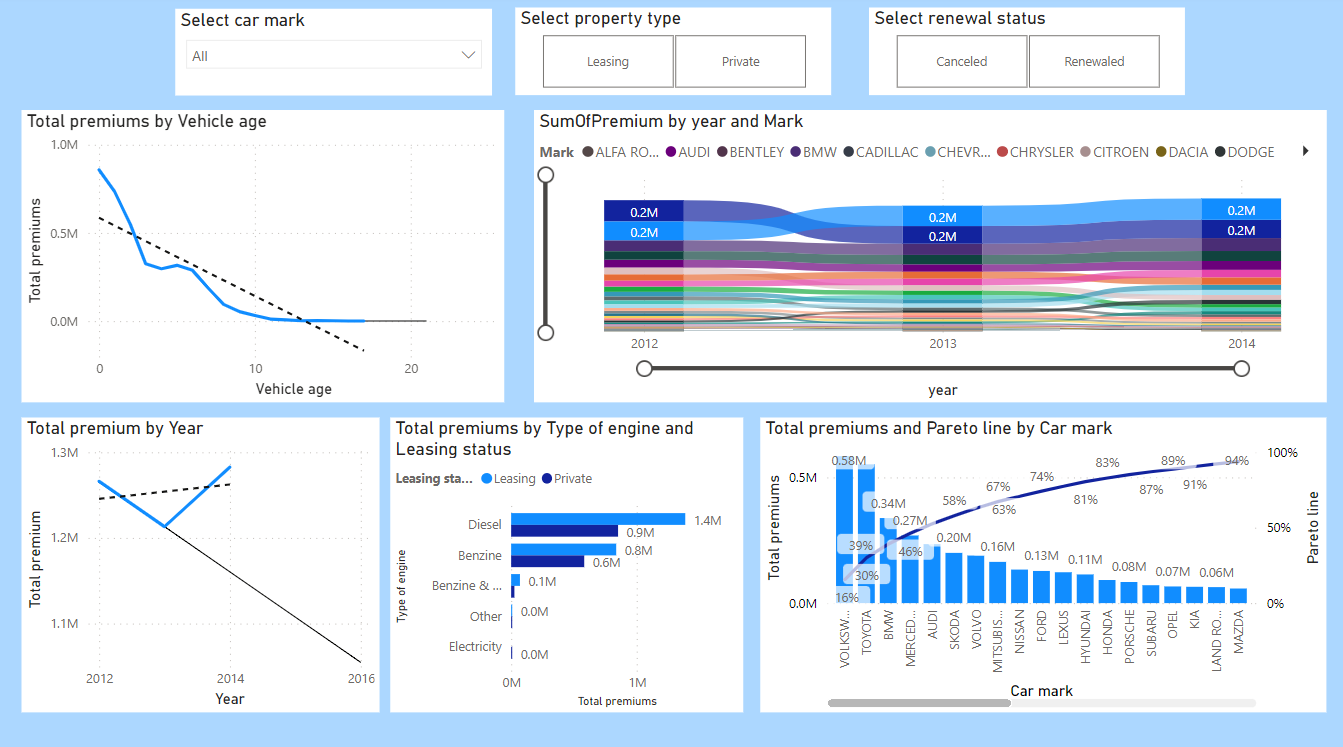

Layout of this report page (visuals, bound fields, positions):
{"tool":"powerbi","page":{"name":"Trends in sales","canvas":[1280,720],"ordinal":3},"visuals":[{"type":"ribbonChart","fields":{"Category":["policies.year"],"Y":["calculations.SumOfPremium"],"Series":["policies.Mark"]},"box":[507.5,108.8,752.5,277.5],"z":0},{"type":"lineChart","fields":{"Category":["policies.VehicleAge"],"Y":["calculations.SumOfPremium"]},"box":[21.2,108.8,458.8,277.5],"z":1000},{"type":"lineChart","fields":{"Y":["calculations.SumOfPremium"],"Category":["policies.year"]},"box":[21.2,401.2,340,280],"z":2000},{"type":"clusteredBarChart","fields":{"Category":["policies.EngineType"],"Y":["calculations.SumOfPremium"],"Series":["policies.LeasingStatus"]},"box":[371.2,401.2,335,280],"z":3000},{"type":"lineStackedColumnComboChart","fields":{"Category":["policies.Mark"],"Y":["calculations.SumOfPremium"],"Y2":["calculations.Cumulative Premium (%)"]},"box":[722.5,401.2,537.5,280],"z":4000},{"type":"slicer","title":"Select car mark","fields":{"Values":["policies.Mark"]},"box":[166.8,12.5,301,82.8],"z":5000},{"type":"slicer","title":"Select property type","fields":{"Values":["policies.LeasingStatus"]},"box":[490,12.2,300,83.3],"z":6000},{"type":"slicer","title":"Select renewal status","fields":{"Values":["policies.RenewalStatus"]},"box":[825.6,12.2,300,83.3],"z":7000}]}

Visuals, with their boxes in screenshot pixels (x1, y1, x2, y2), scaled from the page's 1280x720 canvas onto the 1343x747 screenshot:
ribbonChart - policies.year x calculations.SumOfPremium: box(532, 113, 1322, 401)
lineChart - policies.VehicleAge x calculations.SumOfPremium: box(22, 113, 504, 401)
lineChart - calculations.SumOfPremium x policies.year: box(22, 416, 379, 707)
clusteredBarChart - policies.EngineType x calculations.SumOfPremium: box(389, 416, 741, 707)
lineStackedColumnComboChart - policies.Mark x calculations.SumOfPremium: box(758, 416, 1322, 707)
"Select car mark" slicer: box(175, 13, 491, 99)
"Select property type" slicer: box(514, 13, 829, 99)
"Select renewal status" slicer: box(866, 13, 1181, 99)
